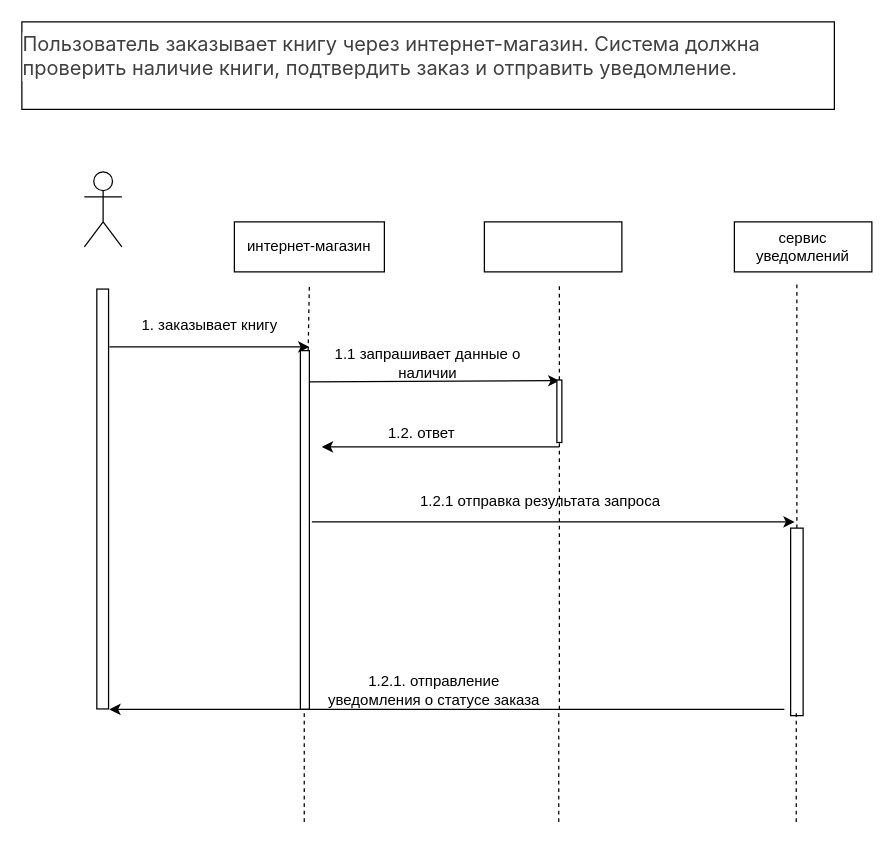
Some shapes in this 894 by 845 pixel diagram are drawn without their labels. Each missing label, with the box of its shape:
Actor: (83, 171, 122, 247)
бд: (483, 221, 622, 272)
